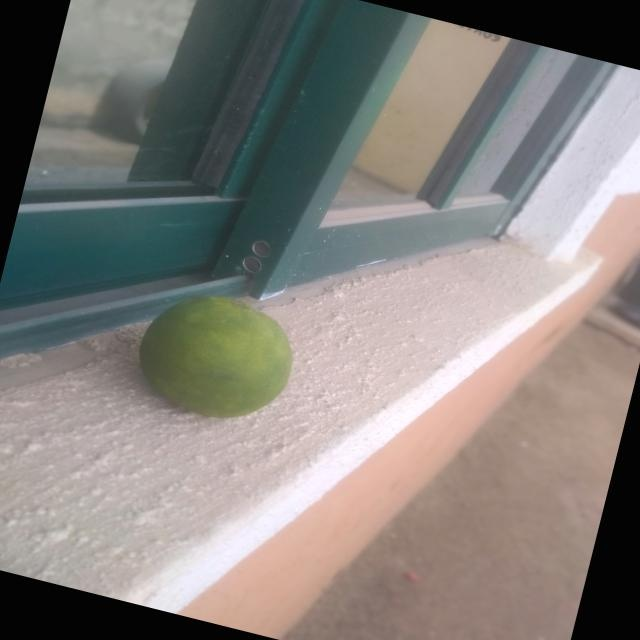agrume: (95, 232, 345, 451)
